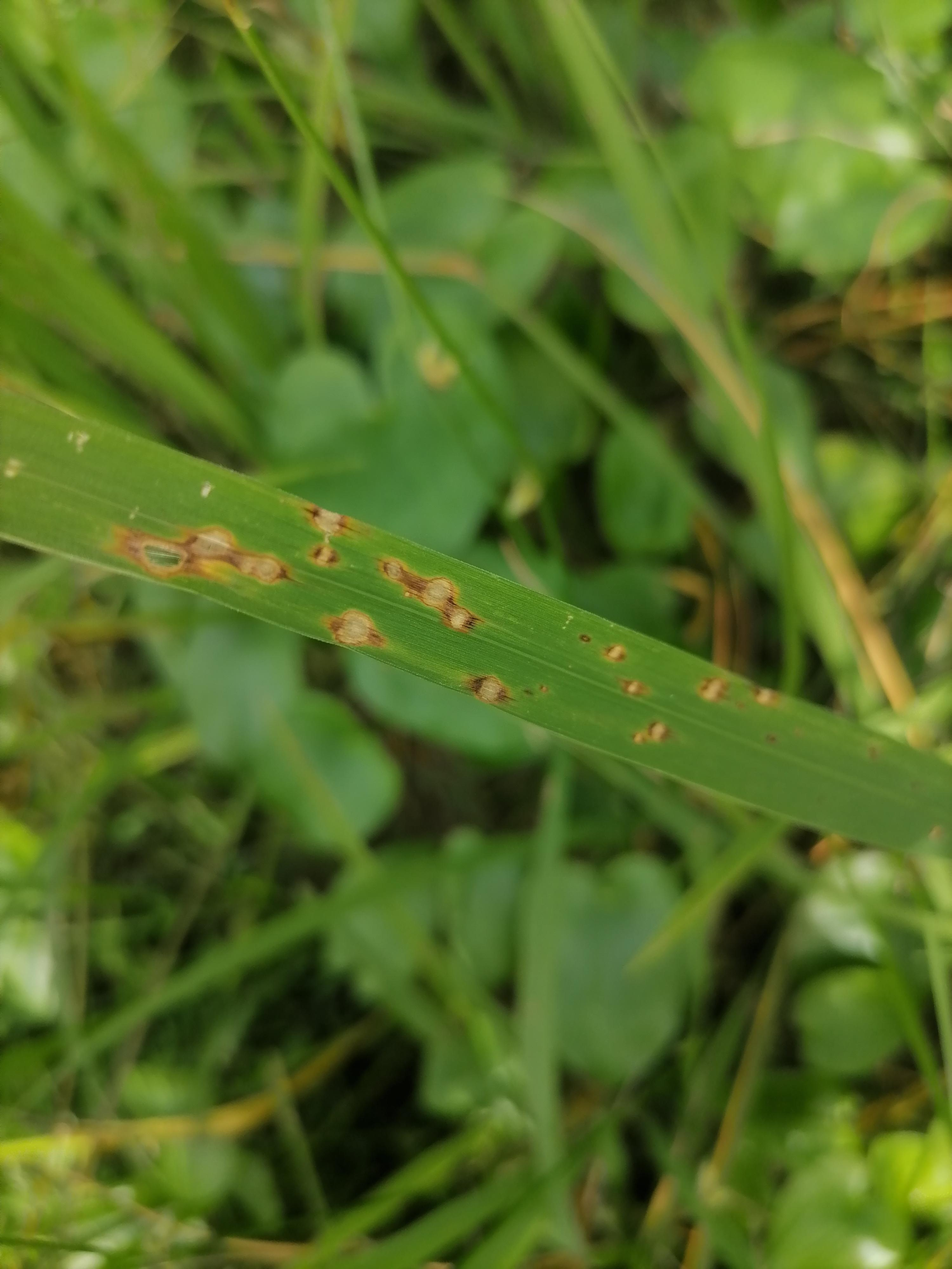Brown spot: (98, 509, 290, 592), (371, 562, 479, 636), (321, 593, 378, 654), (305, 498, 351, 569), (468, 671, 524, 706), (630, 719, 671, 765), (704, 674, 733, 704), (616, 676, 647, 704), (601, 642, 630, 661)
